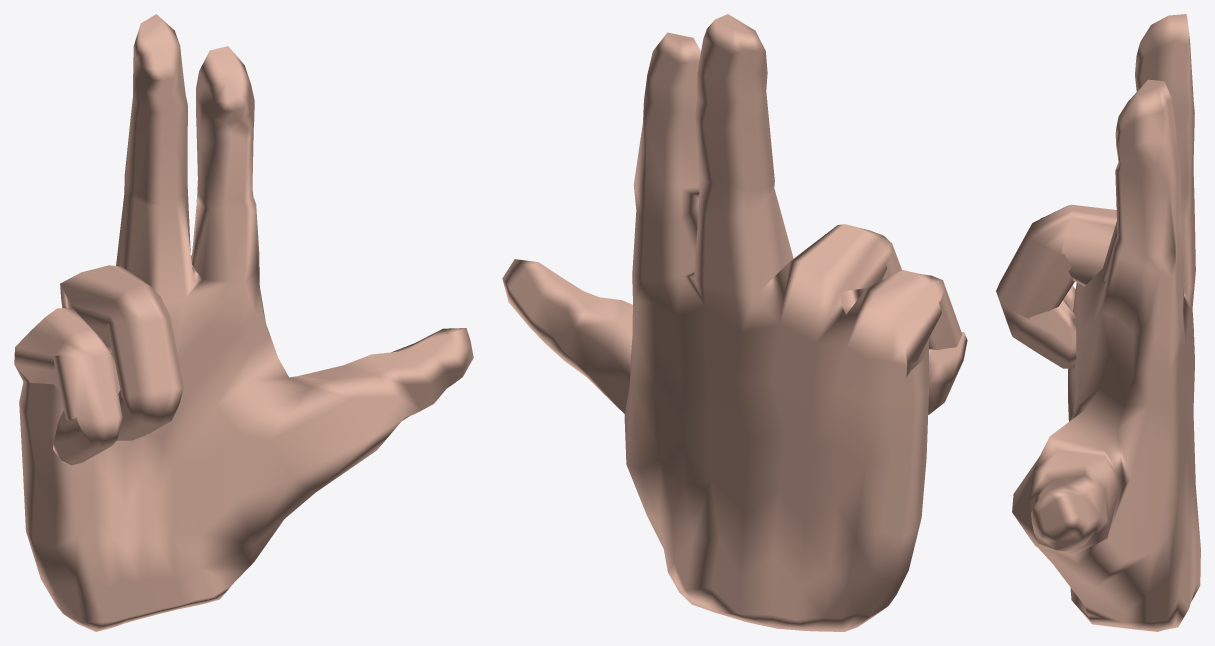
Rendered from U_COM_POLEGAR.obj.
3 renders of one model, left to right at view 1: azimuth 30°, elevation 25°; view 2: azimuth 150°, elevation 25°; view 3: azimuth 270°, elevation 25°, orthographic. The views are drawn at different scales.
Parts seen in each view (by area): view 1: mao_dir:mao_dir; view 2: mao_dir:mao_dir; view 3: mao_dir:mao_dir.
Part boxes in pixels (x1=…): mao_dir:mao_dir: x1=14, y1=14, x2=473, y2=631; mao_dir:mao_dir: x1=502, y1=14, x2=967, y2=631; mao_dir:mao_dir: x1=996, y1=14, x2=1200, y2=631.
Bounding box in the file's own units: 191 × 243 × 75.39.
